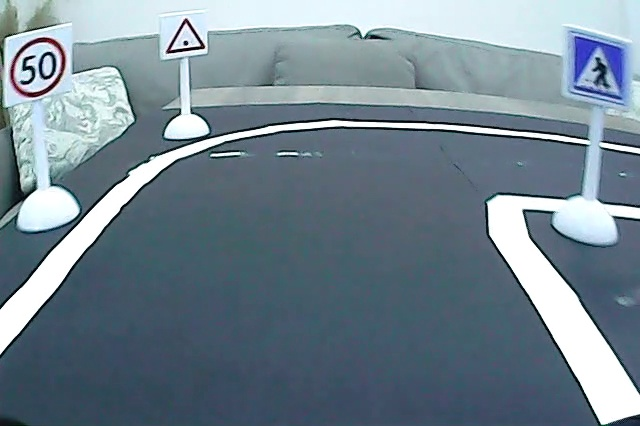green light: (164, 13, 209, 56)
pedestrian crossing: (566, 32, 629, 103)
speed limit 50: (7, 34, 70, 100)
